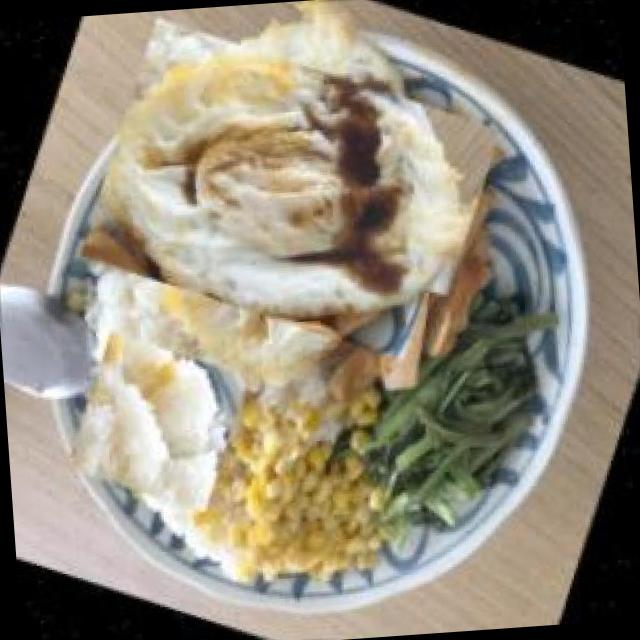fried_eggs: (76, 0, 505, 405)
rice: (55, 322, 261, 526)
water_spinach: (331, 281, 570, 581)
